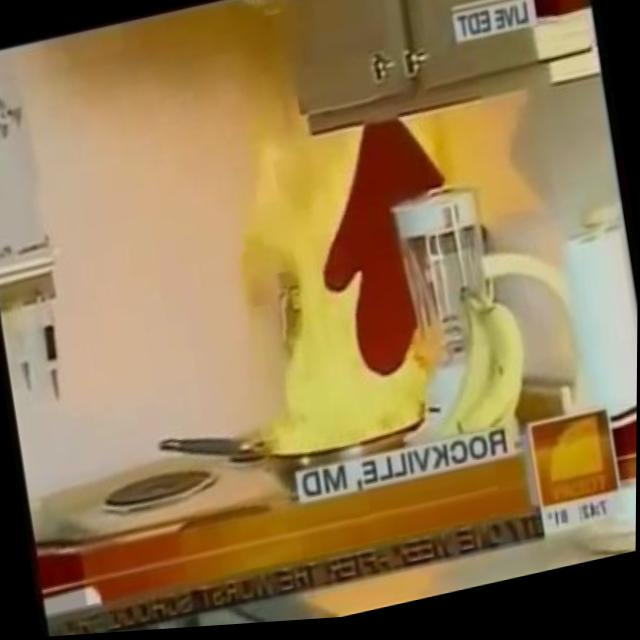fire: (216, 95, 475, 470)
